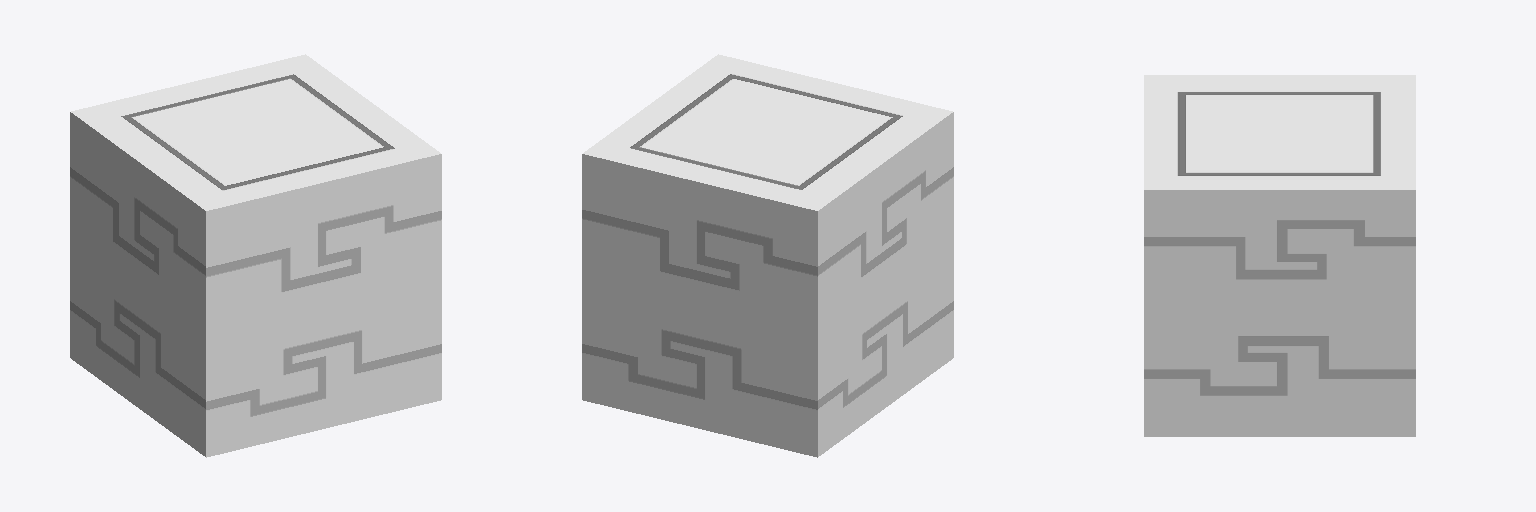
3 views of the same model, side by side, from view 1: azimuth 30°, elevation 25°; view 2: azimuth 150°, elevation 25°; view 3: azimuth 270°, elevation 25° (orthographic).
Visible parts, largest first — view 1: Cube.001_Cube.000; view 2: Cube.001_Cube.000; view 3: Cube.001_Cube.000.
Part boxes in pixels (x1,y1,x2,y2): Cube.001_Cube.000: (70,54,441,457); Cube.001_Cube.000: (582,54,953,457); Cube.001_Cube.000: (1144,75,1415,436).
Size of the model in its own units: 1 by 1 by 1.
Materials: 1 (1 with a texture image).